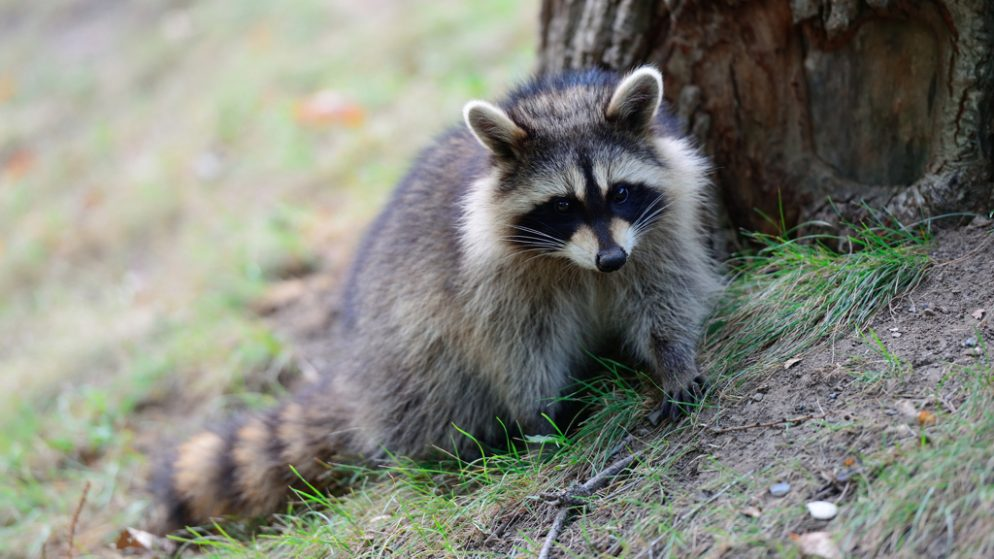raccoon: (136, 48, 757, 485)
